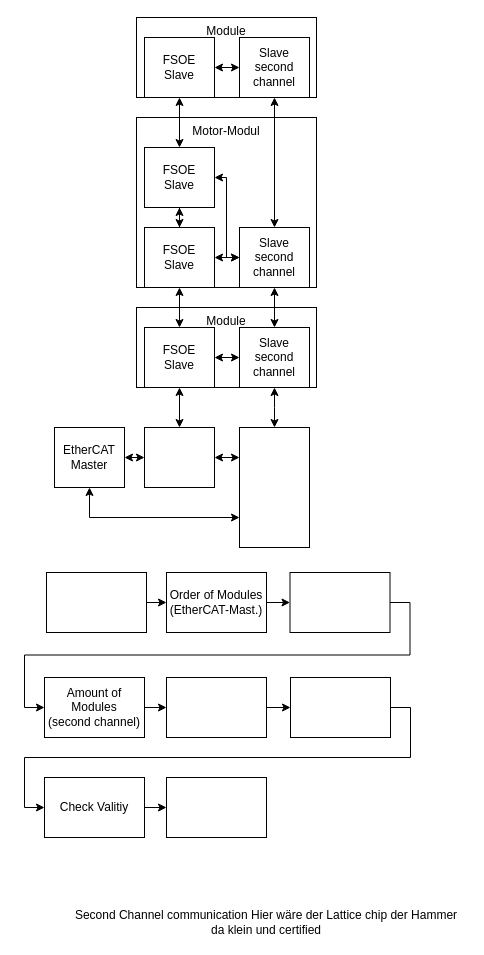
Some shapes in this 484 by 955 pixel diagram are drawn without their labels. The centre of each missing label's shape, as x and y in pixels:
"Amount of Modules (EtherCAT-Mast.)" belongs at (96,602).
"FSOE EtherCAT Master" belongs at (179,457).
"Master second channel" belongs at (274,487).
"Order of Modules (second channel)" belongs at (216,707).
"READ unique ID (second channel)" belongs at (340,707).
"Set unique ID's (EtherCAT-Mast.)" belongs at (339,602).
"Start FSOE Master" belongs at (216,807).
